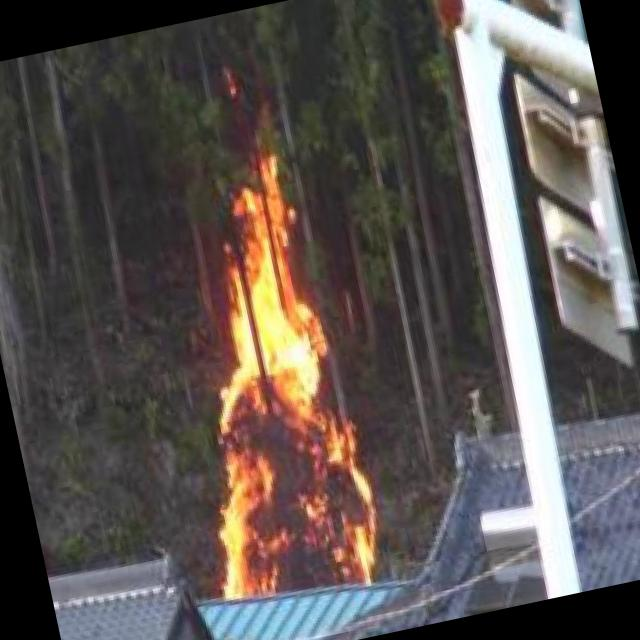Fire: (146, 172, 385, 610)
